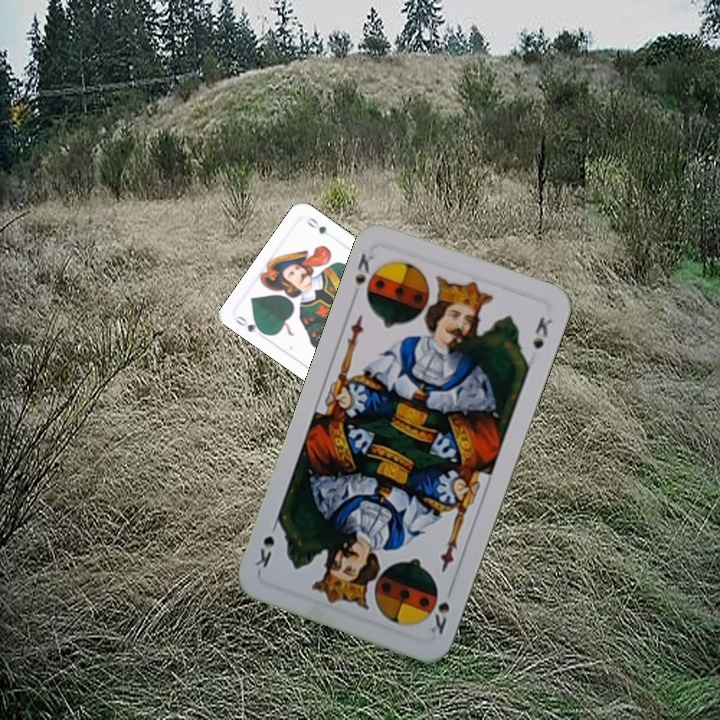GO: (231, 311, 269, 337)
SK: (426, 581, 456, 637), (350, 249, 380, 288)
